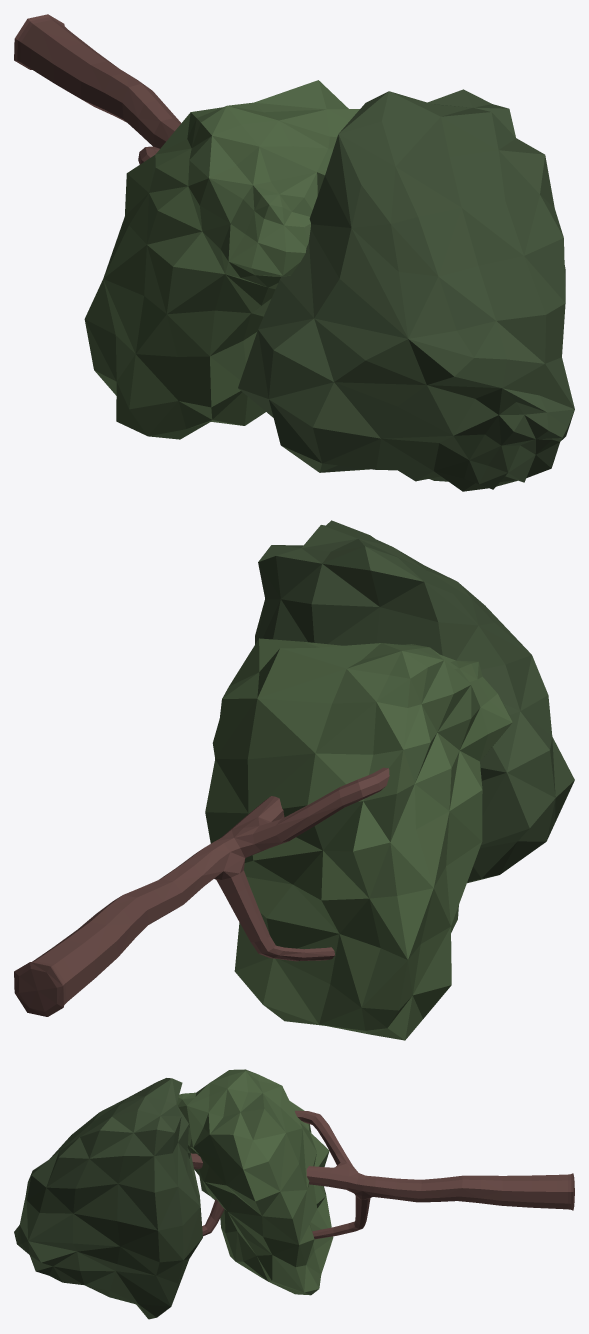
File: tree-deciduous-3-34-ft.obj
3 renders of one model, top to bottom at view 1: azimuth 30°, elevation 25°; view 2: azimuth 150°, elevation 25°; view 3: azimuth 270°, elevation 25°, orthographic. The views are drawn at different scales.
Visible parts, largest first — view 1: tree-deciduous-3-34-ft; view 2: tree-deciduous-3-34-ft; view 3: tree-deciduous-3-34-ft.
Boxes of the visible parts, left/top/right/bottom form: tree-deciduous-3-34-ft: left=14, top=14, right=574, bottom=491; tree-deciduous-3-34-ft: left=14, top=520, right=574, bottom=1040; tree-deciduous-3-34-ft: left=14, top=1069, right=574, bottom=1319.
Bounding box in the file's own units: 151 × 184 × 408.
